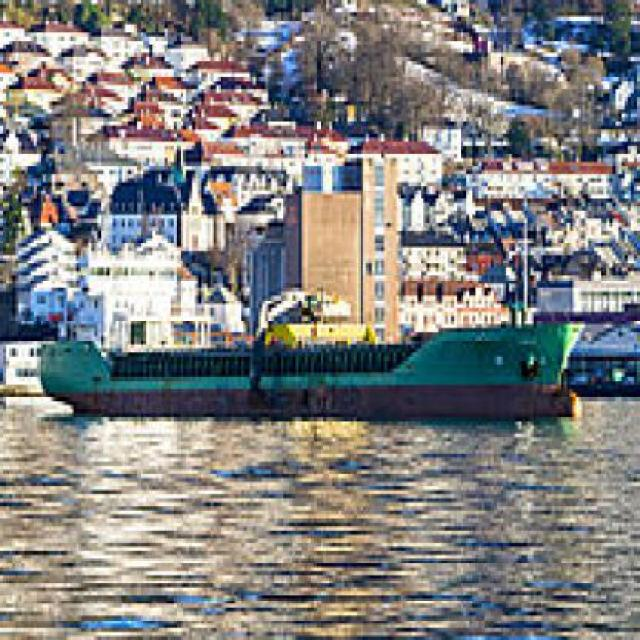container: (28, 301, 599, 455)
